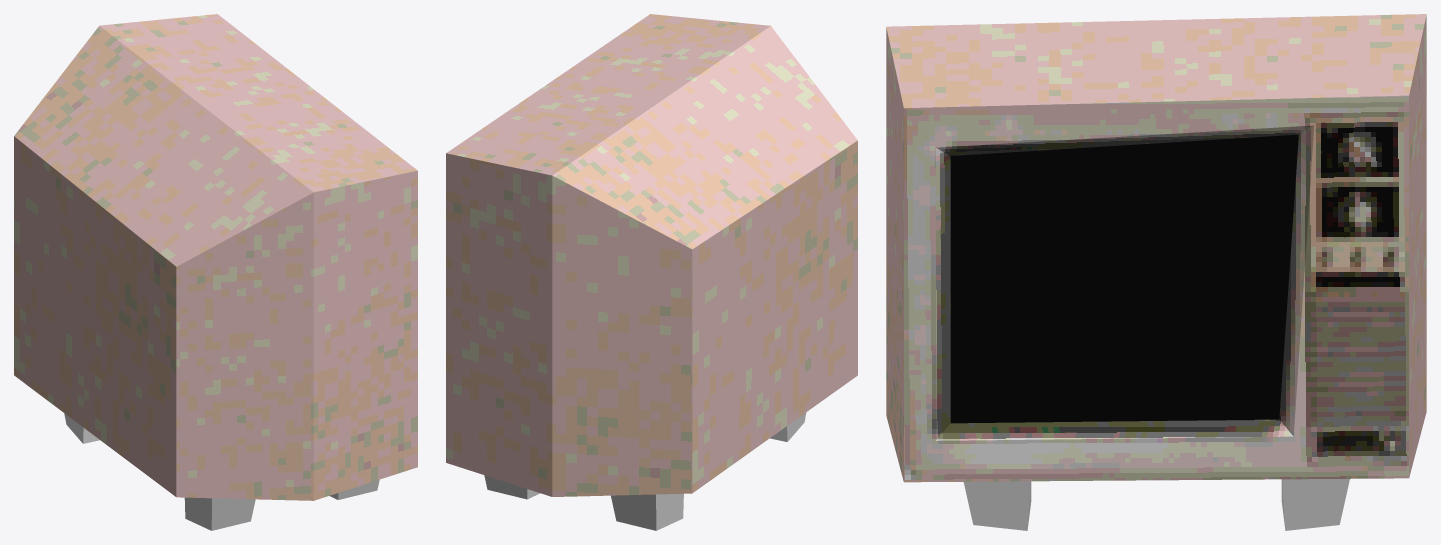
The picture shows the model from 3 angles, left to right: view 1: azimuth 30°, elevation 25°; view 2: azimuth 150°, elevation 25°; view 3: azimuth 270°, elevation 25°; orthographic projection. The views are drawn at different scales.
Visible parts, largest first — view 1: Cube; view 2: Cube; view 3: Cube, Cube.002.
Part boxes in pixels (<box>): Cube: <box>14,14,417,530</box>; Cube: <box>446,14,857,530</box>; Cube: <box>886,14,1426,530</box>; Cube.002: <box>950,134,1298,423</box>.
Bounding box in the file's own units: 2 × 3.09 × 3.34.
Materials: 1 (1 with a texture image).
